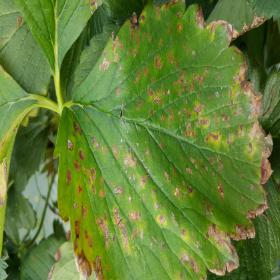Angular Leafspot: (53, 0, 276, 279)
